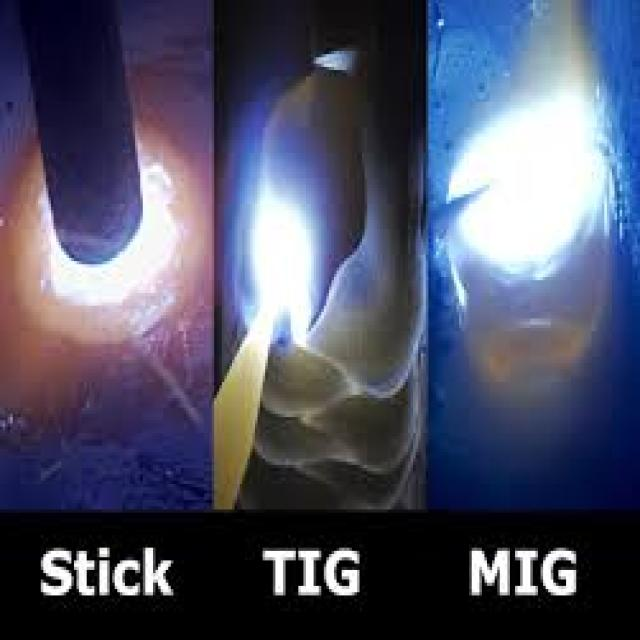welding: (444, 86, 624, 282), (35, 154, 186, 311), (246, 162, 319, 348)
